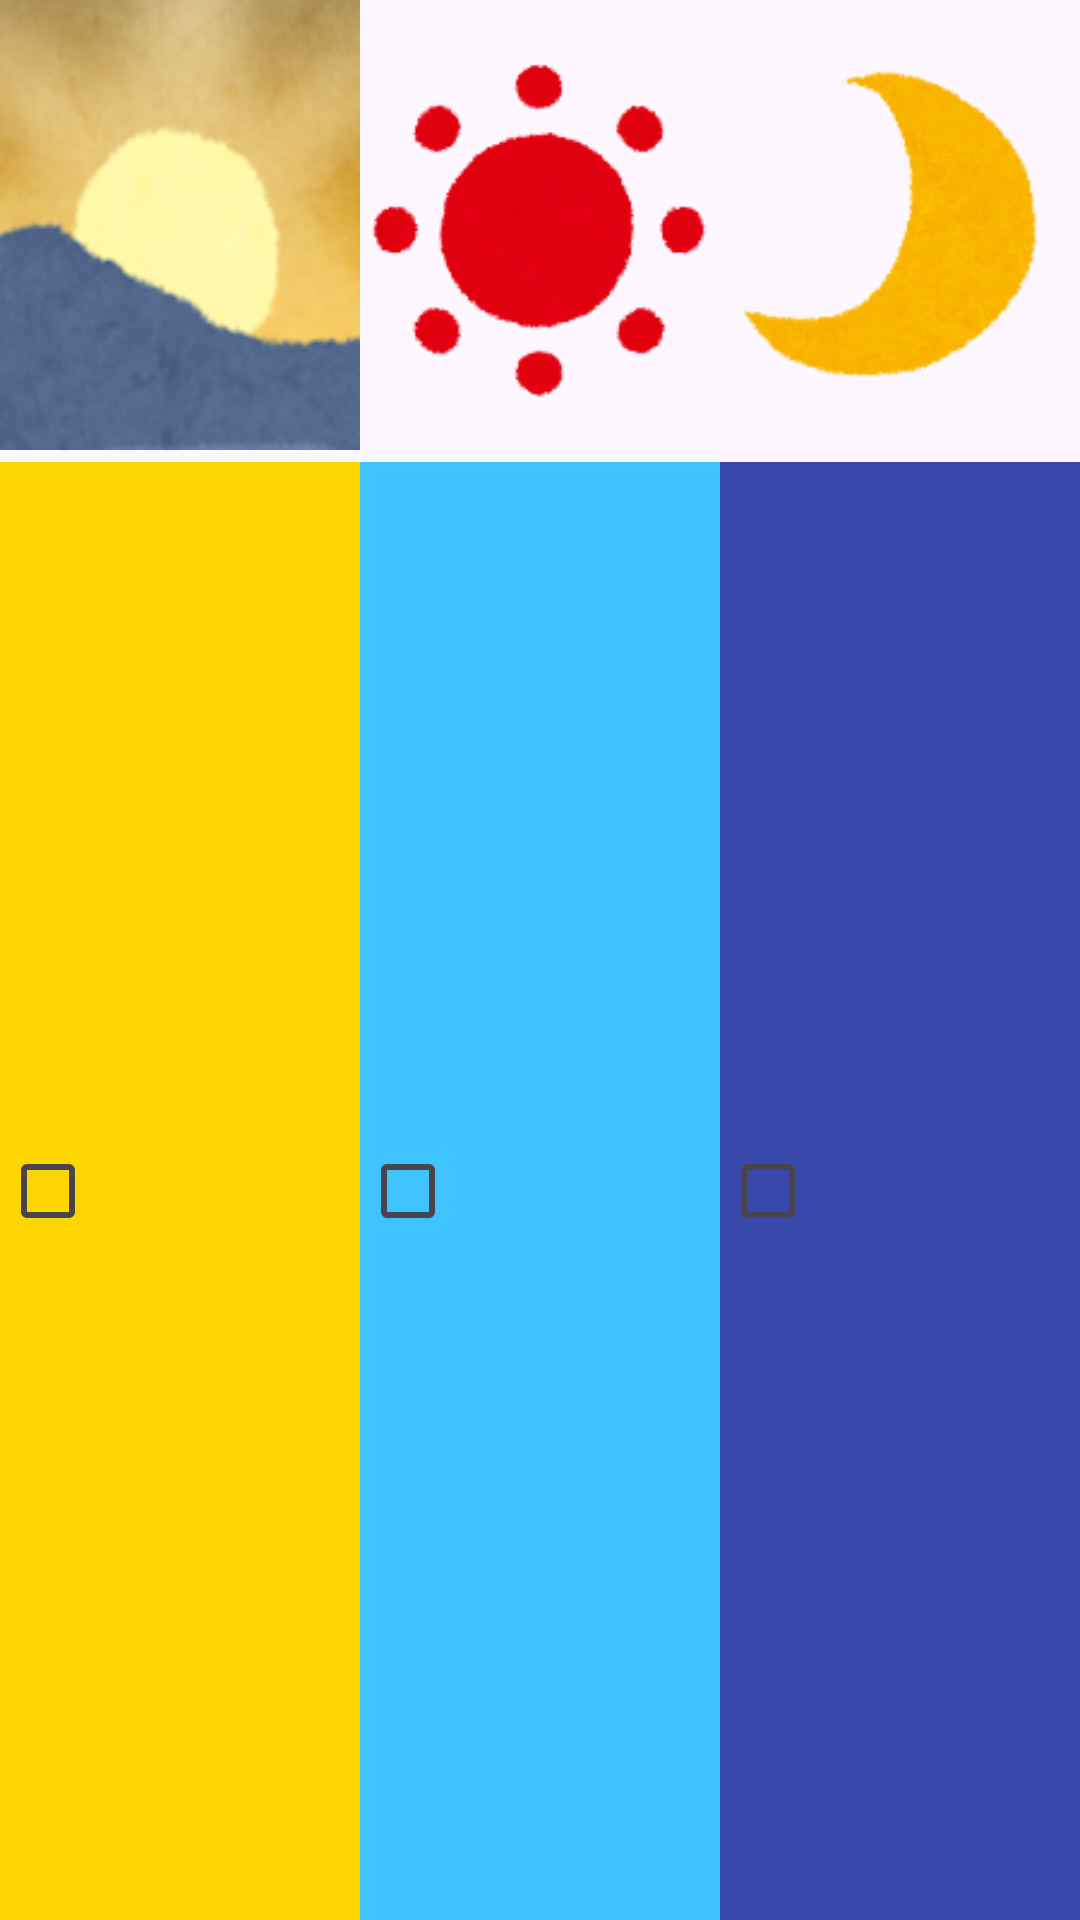

Screen size 1080 x 1920. Icon name, then its center in pixels as point (x, y):
mark tenki hare: point (539, 230)
mark tenki moon: point (890, 224)
